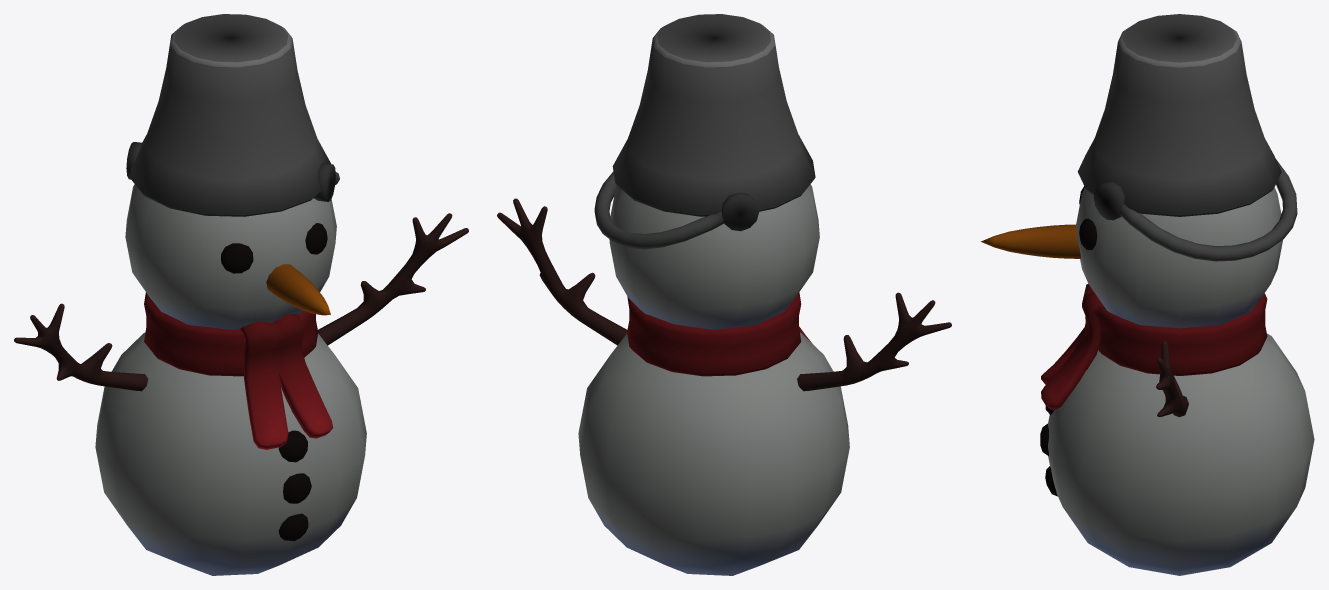
The model's file is Snowman.fbx.
3 renders of one model, left to right at view 1: azimuth 30°, elevation 25°; view 2: azimuth 150°, elevation 25°; view 3: azimuth 270°, elevation 25°, orthographic.
Parts seen in each view (by area): view 1: Snowman; view 2: Snowman; view 3: Snowman.
Boxes of the visible parts, x1,y1,x2,y2 form: Snowman: [14, 14, 468, 575]; Snowman: [497, 14, 951, 575]; Snowman: [981, 14, 1314, 575].
Size of the model in its own units: 271 by 300 by 173.
